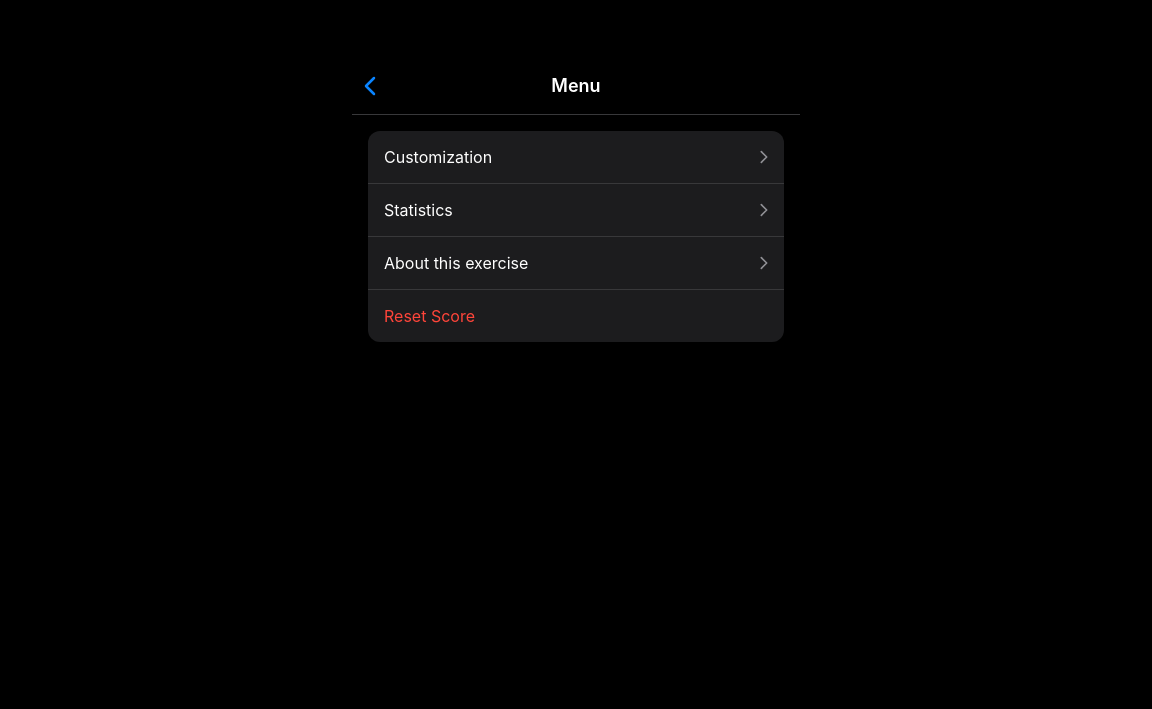
chords screen › disables triads when only 3rd inversion is enabled
Click the button "Customization" at (438, 157), box top-left (368, 131), bottom-right (784, 183)
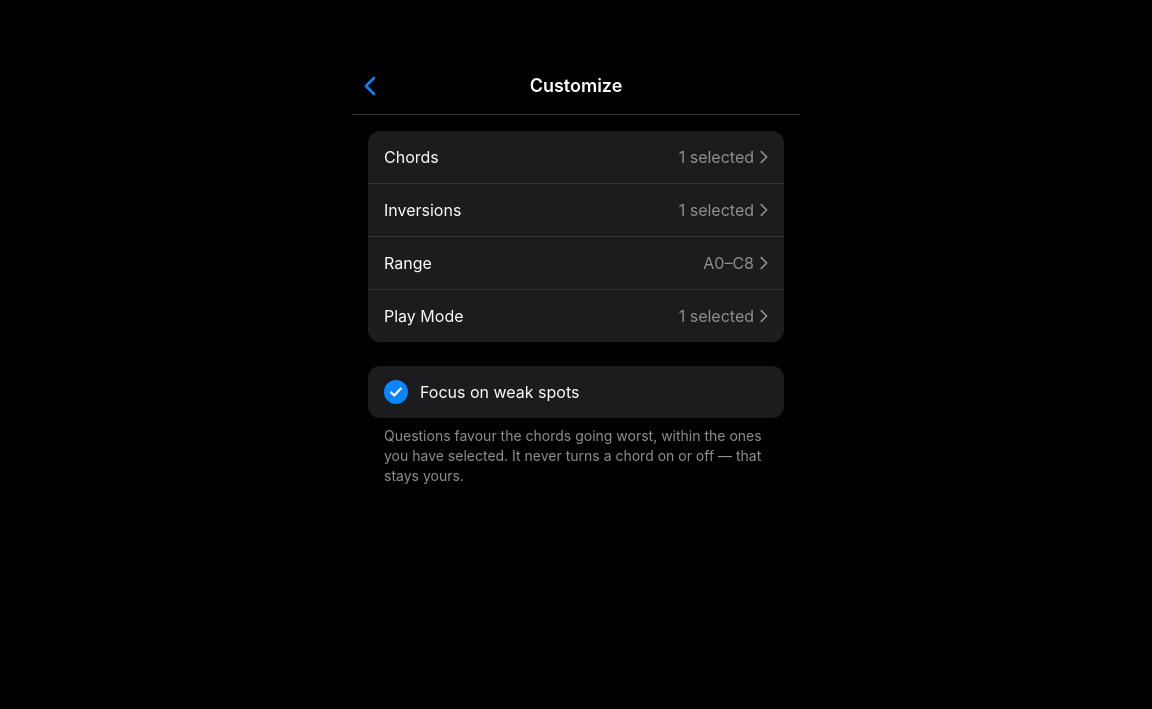
Click the button "Chords 1 selected" at (411, 157), box top-left (368, 131), bottom-right (784, 183)
(page scrolled)
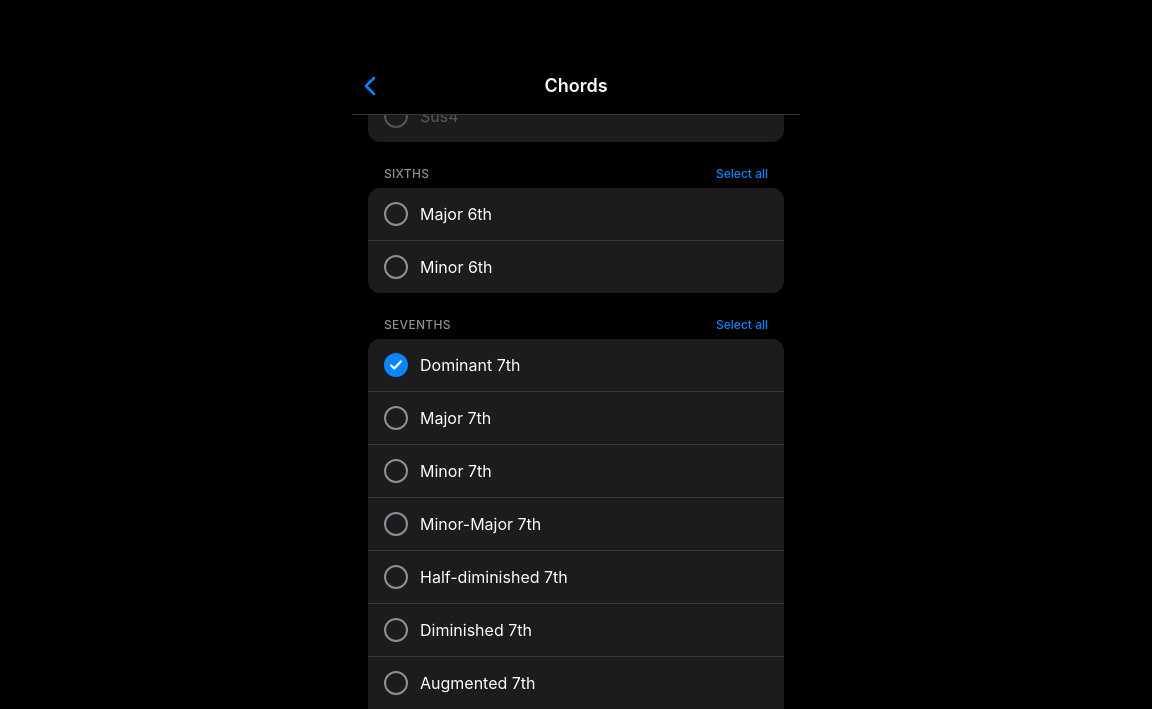
Check: the checkbox labelled "Major 7th" is enabled, box top-left (368, 391), bottom-right (784, 444)
